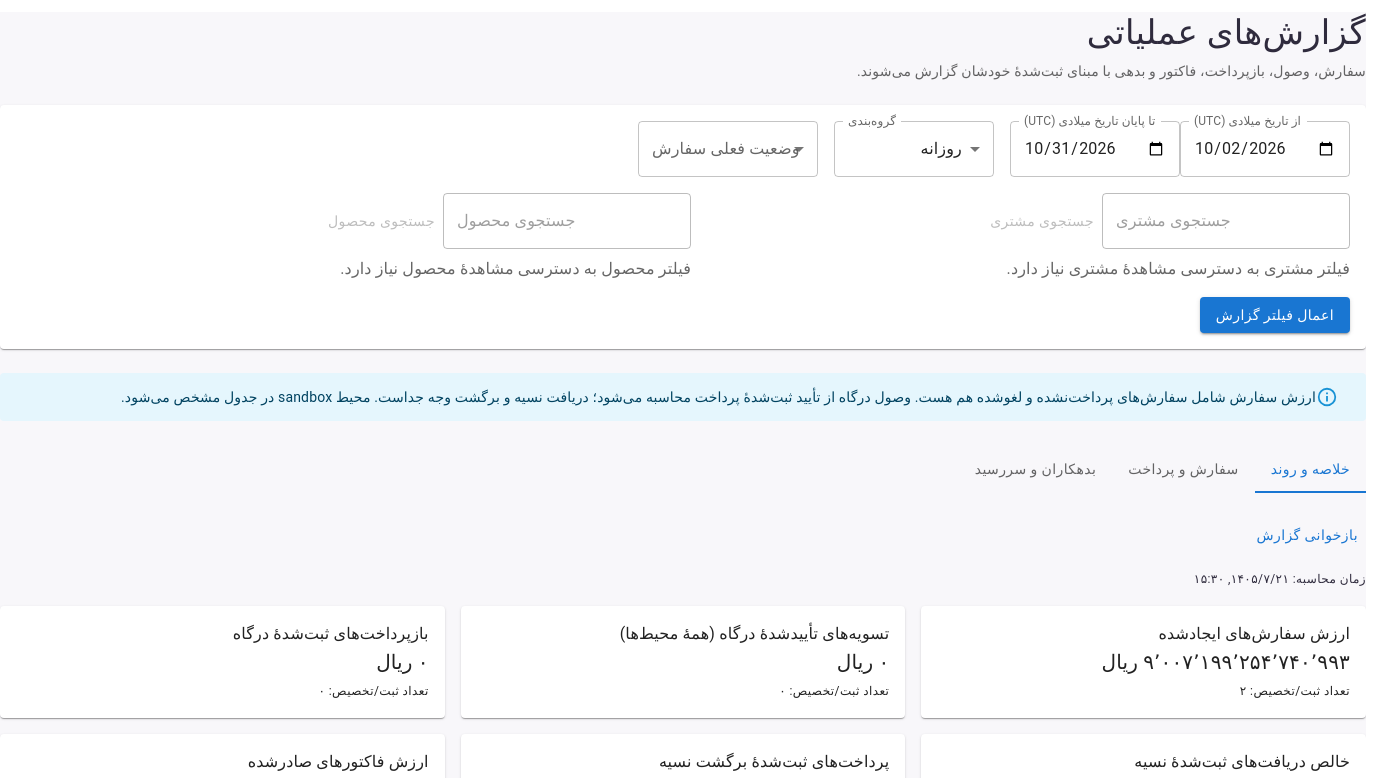
Scenario: Operational Admin reports contract and states › rejects invalid reversed dates without sending a replacement query
In the date field labelled "از تاریخ میلادی (UTC)": coordinates (1265, 149) [1180,121,1350,177], type "2026-10-15"
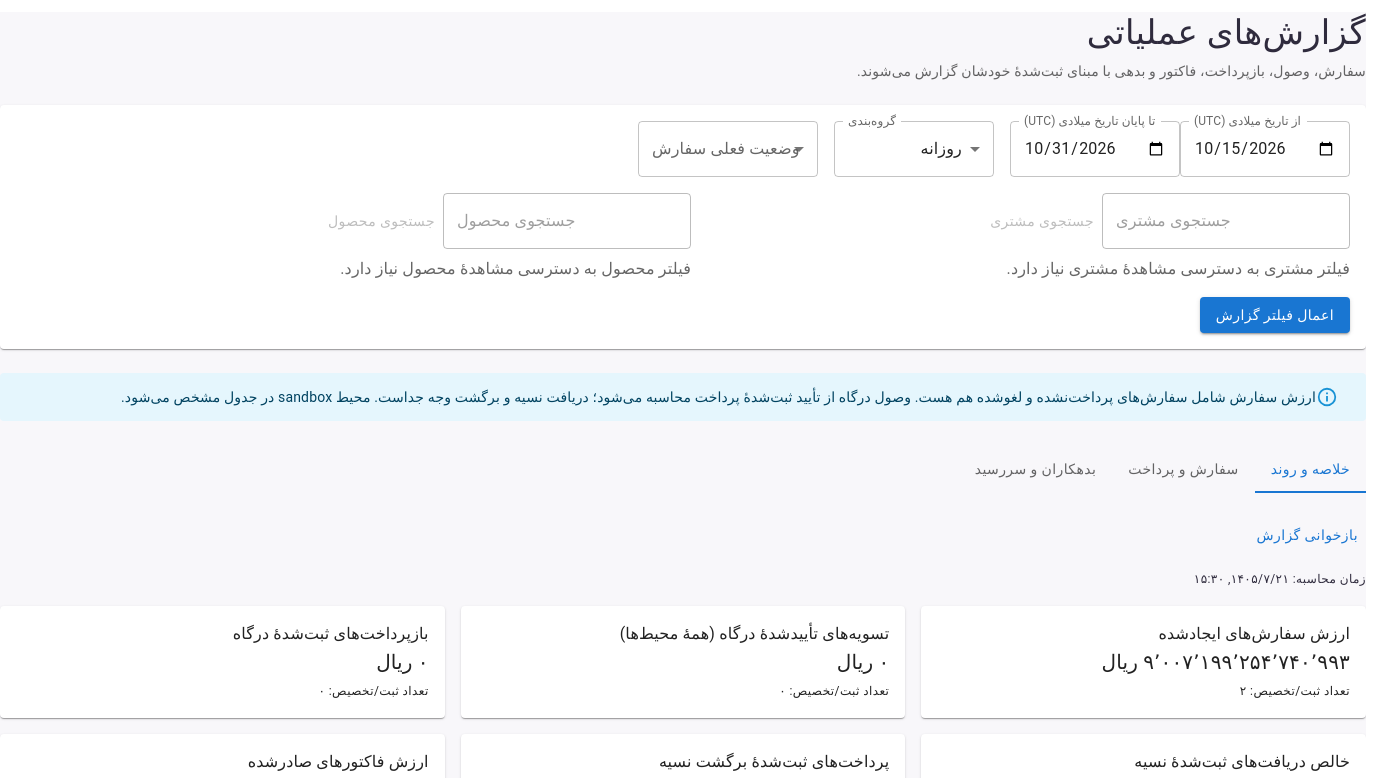
In the date field labelled "تا پایان تاریخ میلادی (UTC)": coordinates (1095, 149) [1010,121,1180,177], type "2026-10-14"
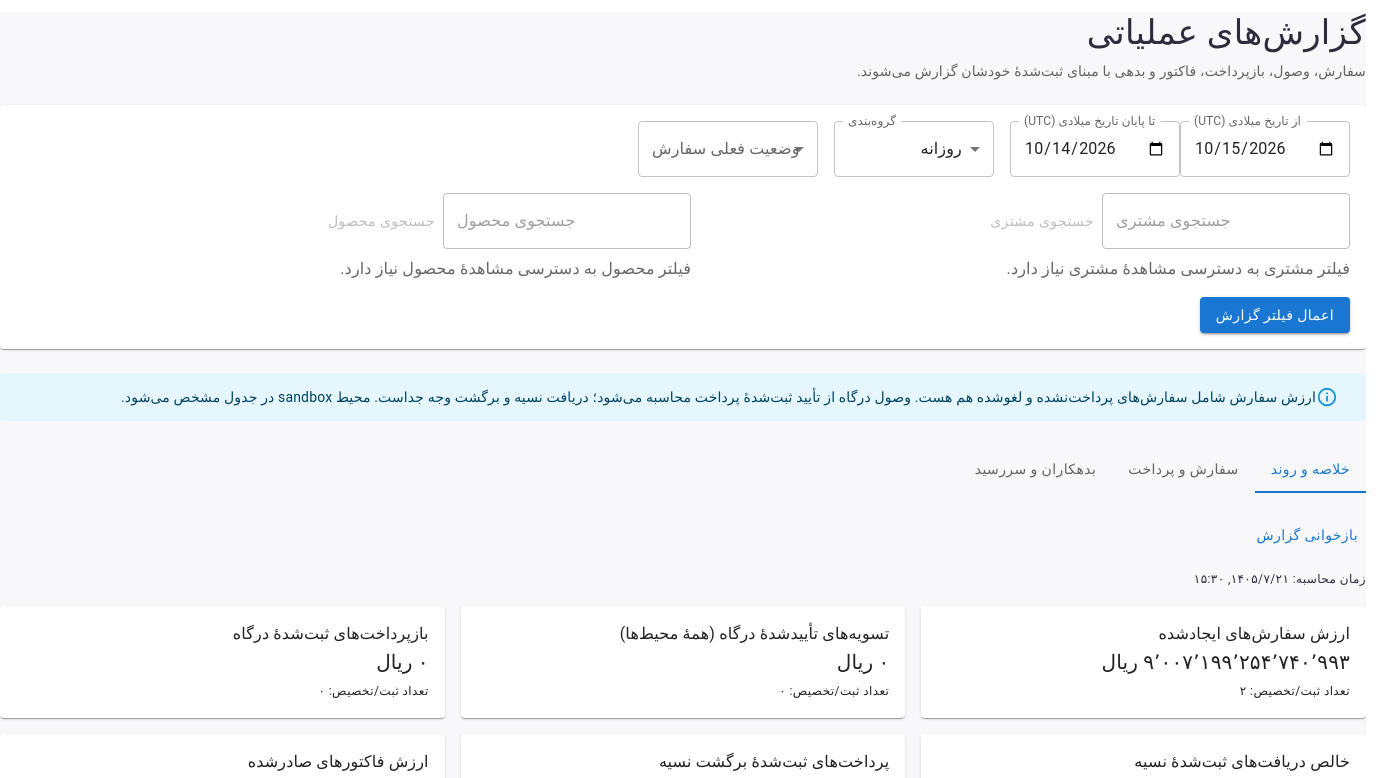
Click the button "اعمال فیلتر گزارش": coordinates (1275, 315) [1200,297,1350,333]
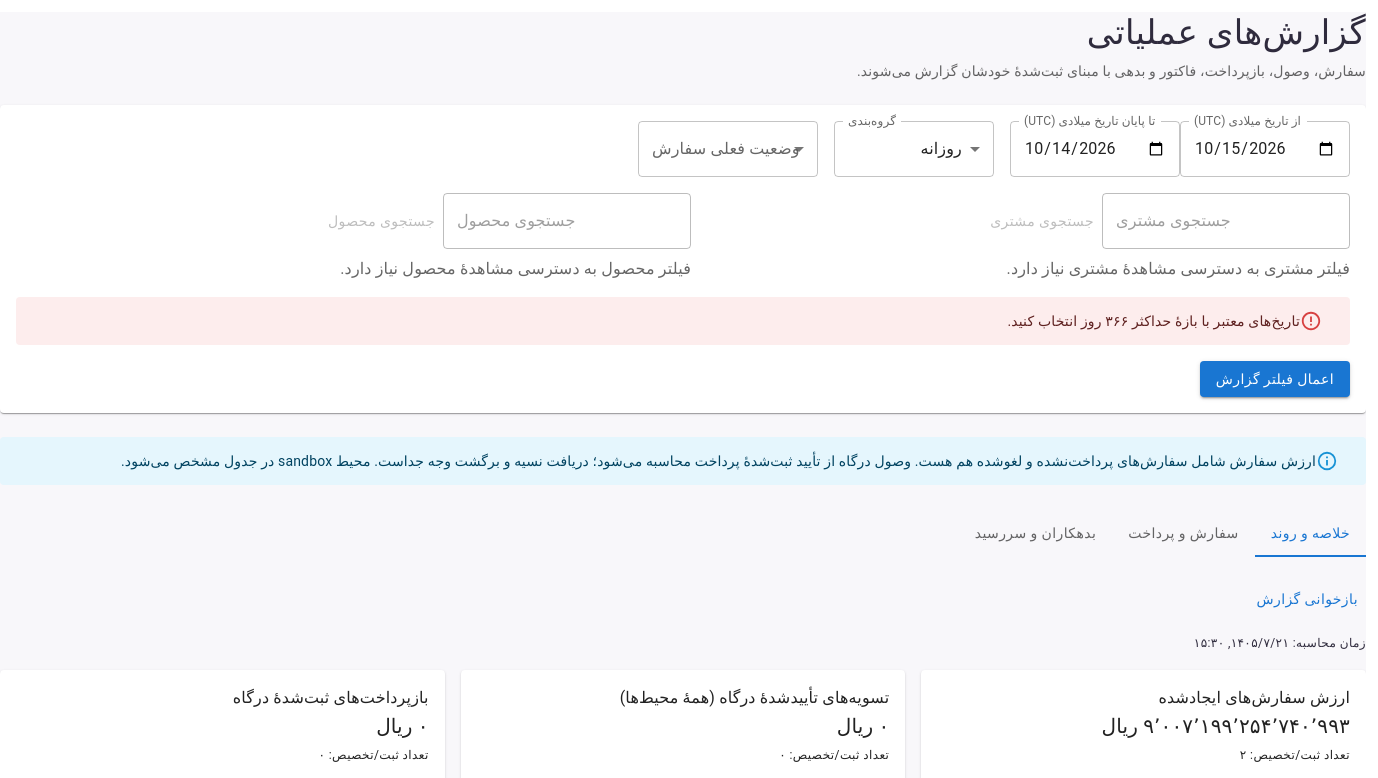
Expected: the text "تاریخ‌های معتبر با بازهٔ حداکثر ۳۶۶ روز انتخاب کنید." is shown, [1007,313,1300,329]
